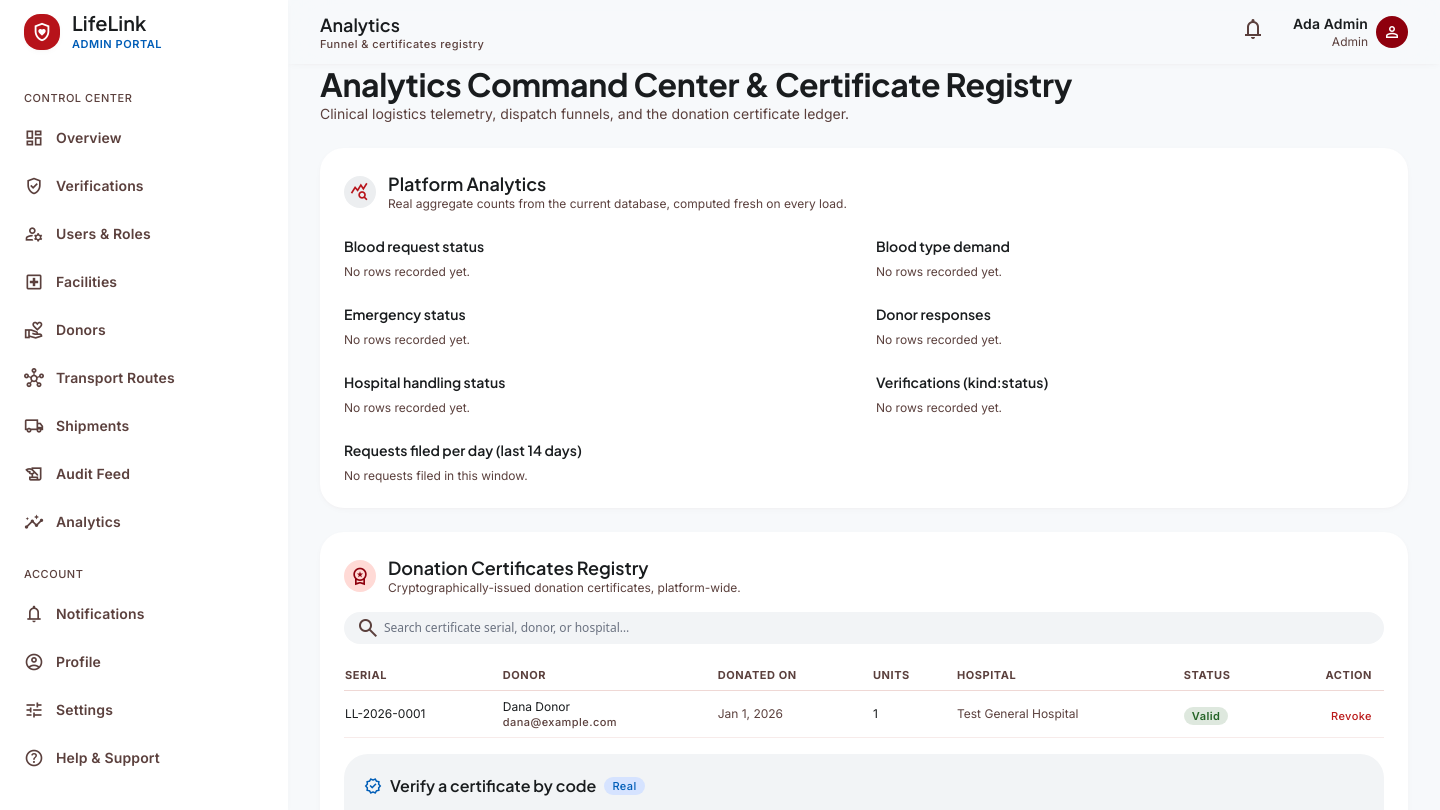
it: AdminAnalytics certificate registry › shares the Modal primitive's dialog/focus/close semantics
Step 1. Click the button "Revoke" → click(1352, 716), box [1331,709,1372,723]
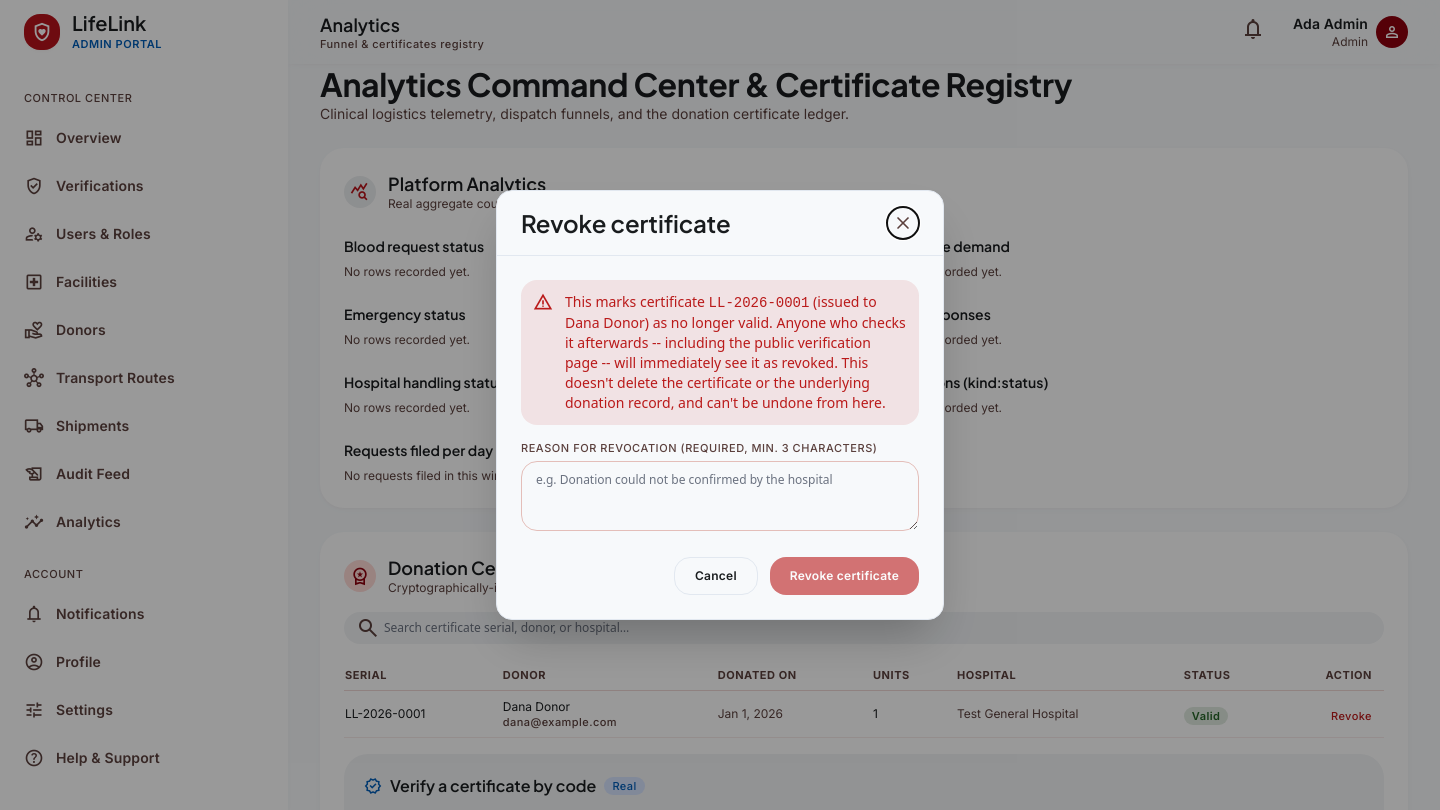
Step 2. Click the button named "Close" → click(903, 223), box [887,207,919,239]
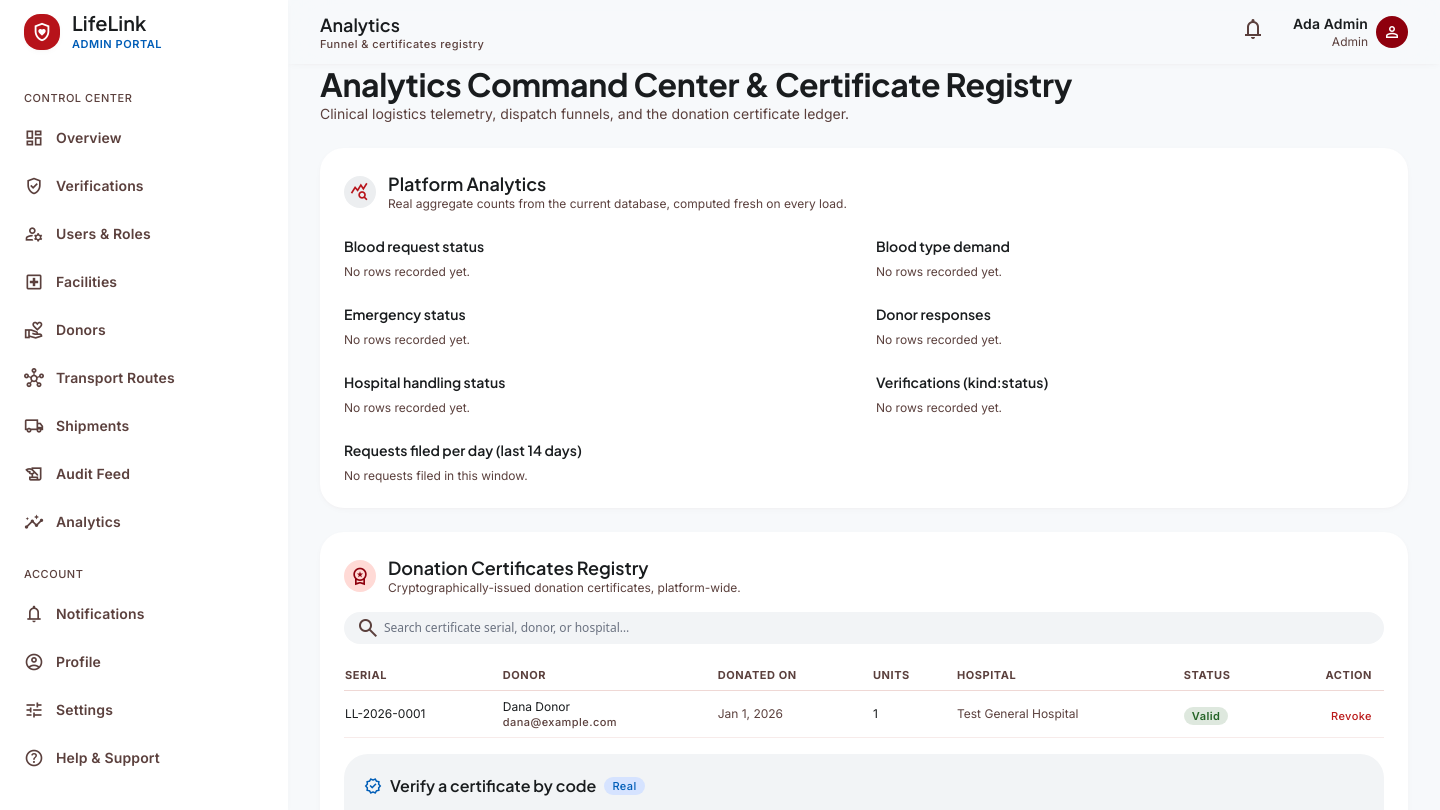
Expected: the heading "Revoke certificate" is gone
